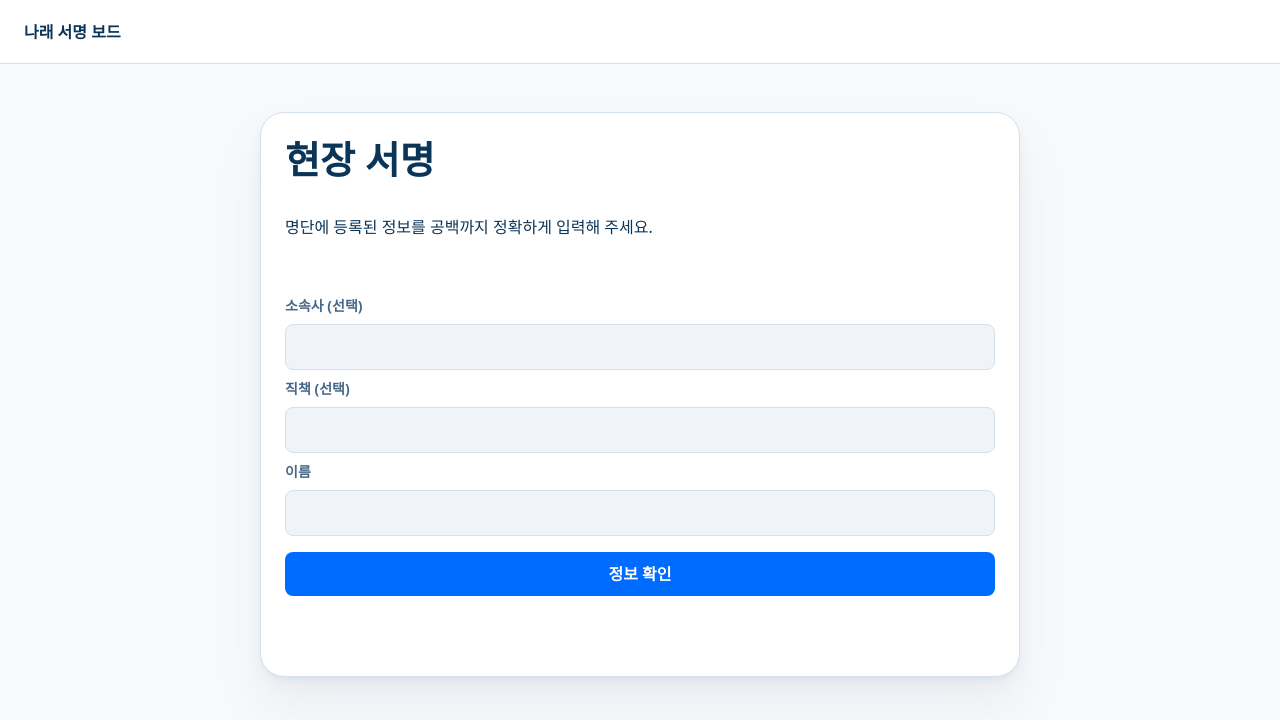
it: releases the signer lease through cancellation instead of draft clearing
Expected: the element with test id "public-signer-identify" is shown, [260,112,1020,677]
Type "홍길동" into the field labelled "이름" at (640, 513), box [285,490,995,536]
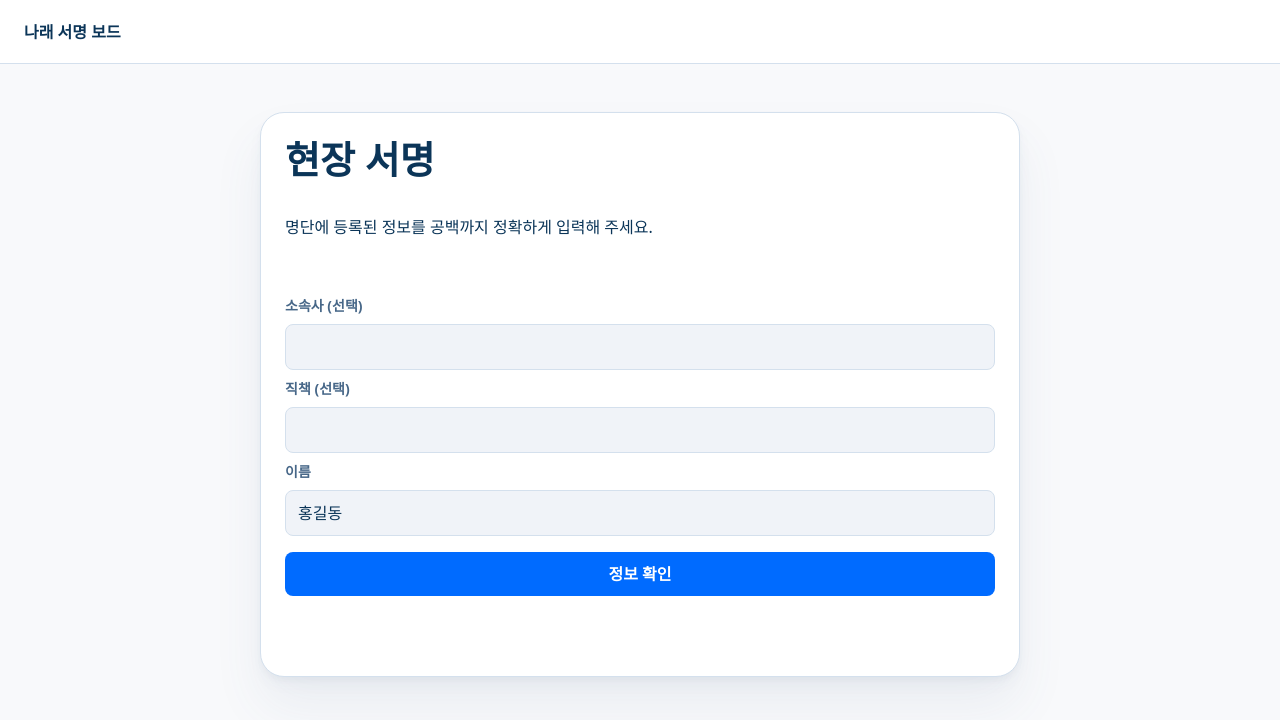
Click the button "정보 확인" at (640, 574), box [285,552,995,596]
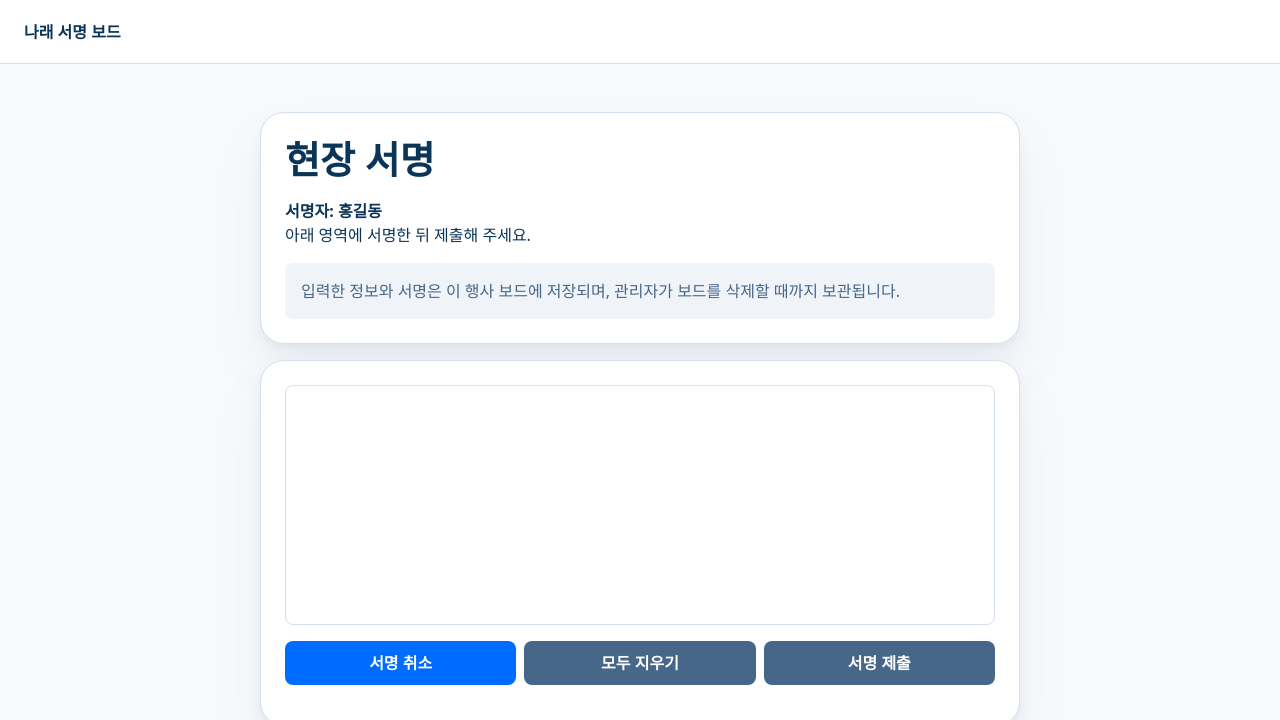
Press the mouse on the picture with test id "signer-canvas" at (640, 505), box [285,385,995,625]
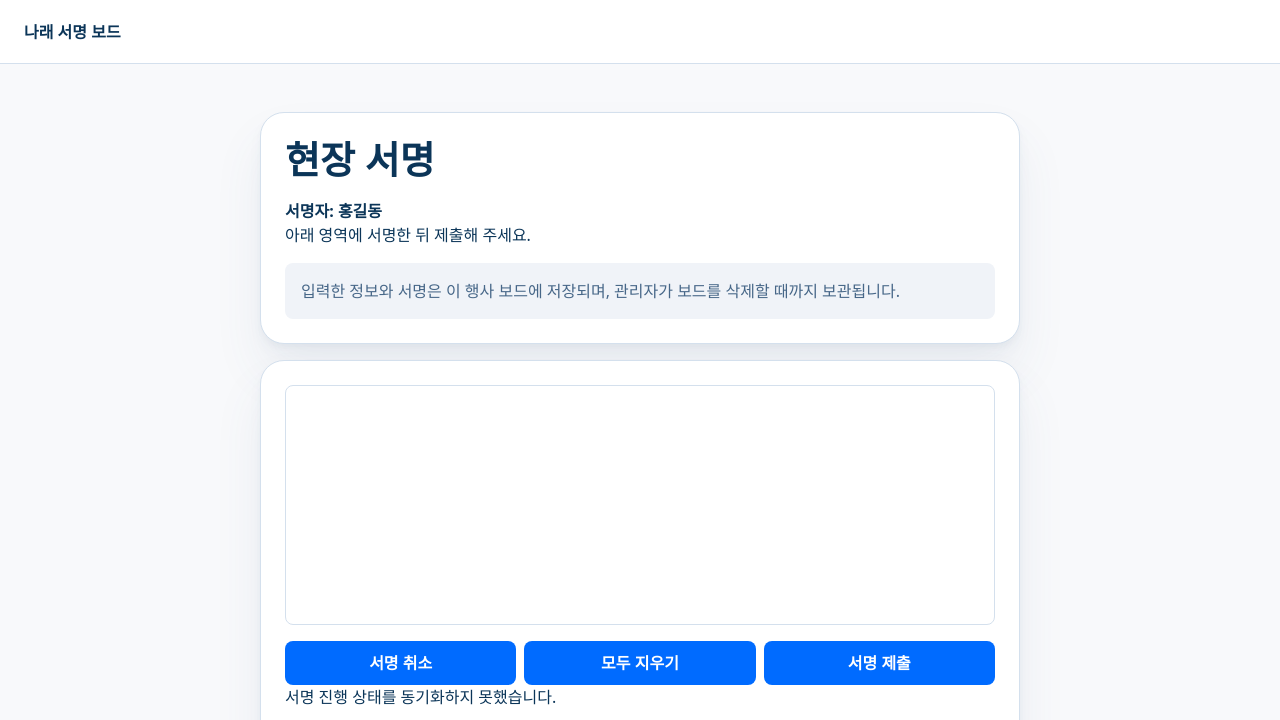
Click the button "서명 취소" at (401, 663), box [285,641,516,685]
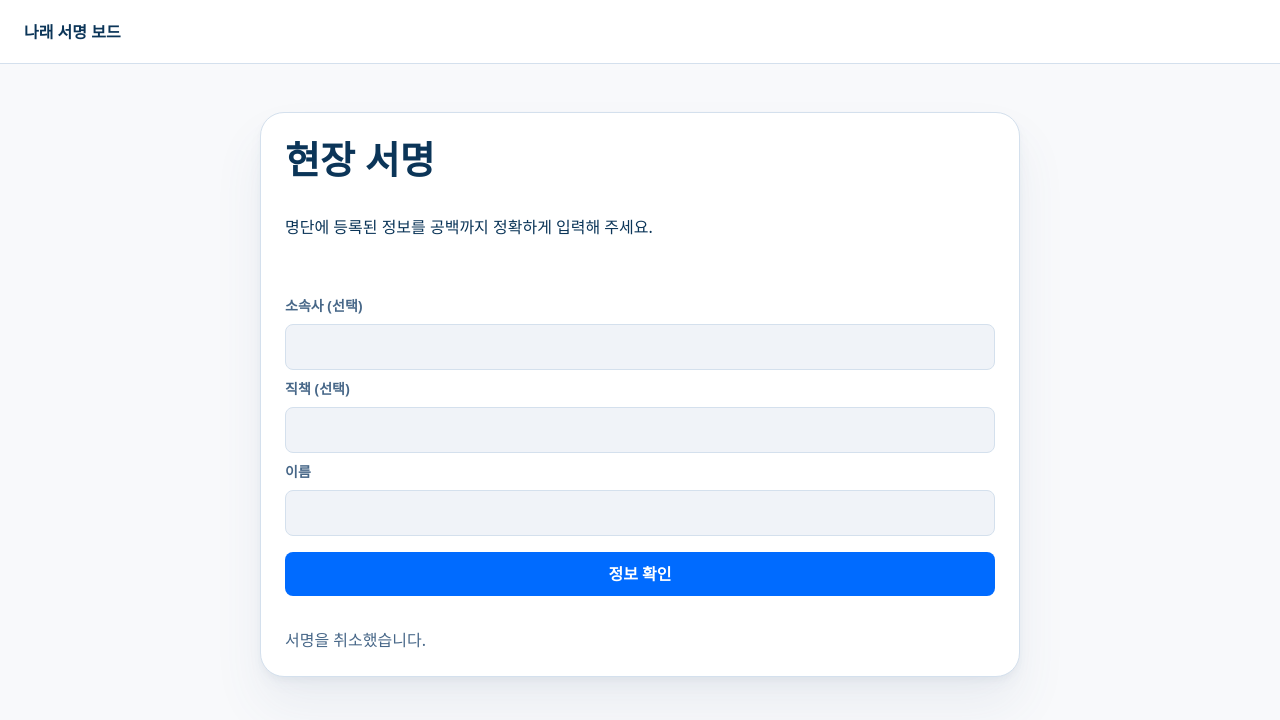
Expected: the element with test id "public-signer-identify" is shown, [260,112,1020,677]
